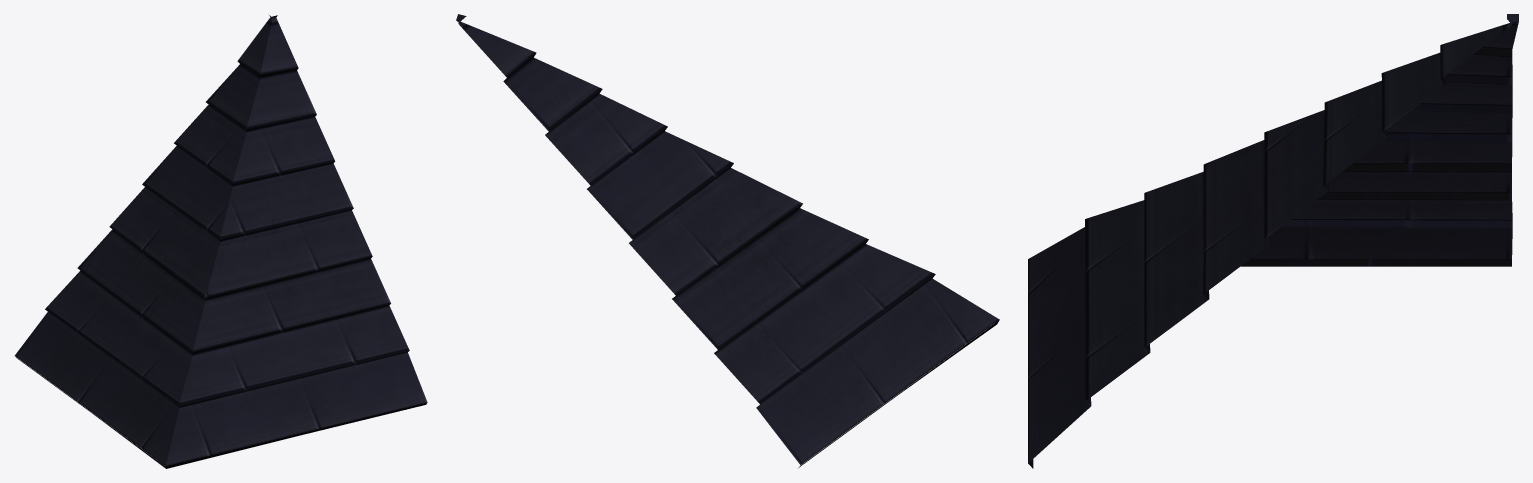
File: Roof_Corner_TWO_BY_TWO.fbx
The picture shows the model from 3 angles, left to right: view 1: azimuth 30°, elevation 25°; view 2: azimuth 150°, elevation 25°; view 3: azimuth 270°, elevation 25°; orthographic projection. The views are drawn at different scales.
Parts seen in each view (by area): view 1: Roof_TWO_BY_TWO_CORNER2; view 2: Roof_TWO_BY_TWO_CORNER2; view 3: Roof_TWO_BY_TWO_CORNER2.
Part boxes in pixels (left/top/right/bottom): Roof_TWO_BY_TWO_CORNER2: left=14, top=15, right=427, bottom=468; Roof_TWO_BY_TWO_CORNER2: left=456, top=14, right=999, bottom=467; Roof_TWO_BY_TWO_CORNER2: left=1028, top=14, right=1518, bottom=468.
Bounding box in the file's own units: 2 × 2.05 × 2.03.
